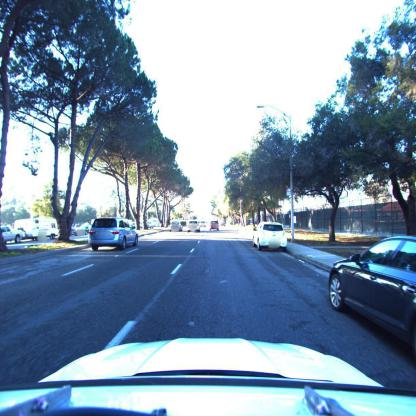car: (327, 235, 415, 372), (88, 218, 138, 252), (254, 223, 288, 252), (1, 219, 26, 247), (0, 226, 29, 245), (186, 218, 202, 234), (73, 223, 88, 237), (171, 220, 182, 232), (210, 220, 220, 231)
truck: (32, 216, 59, 241)
